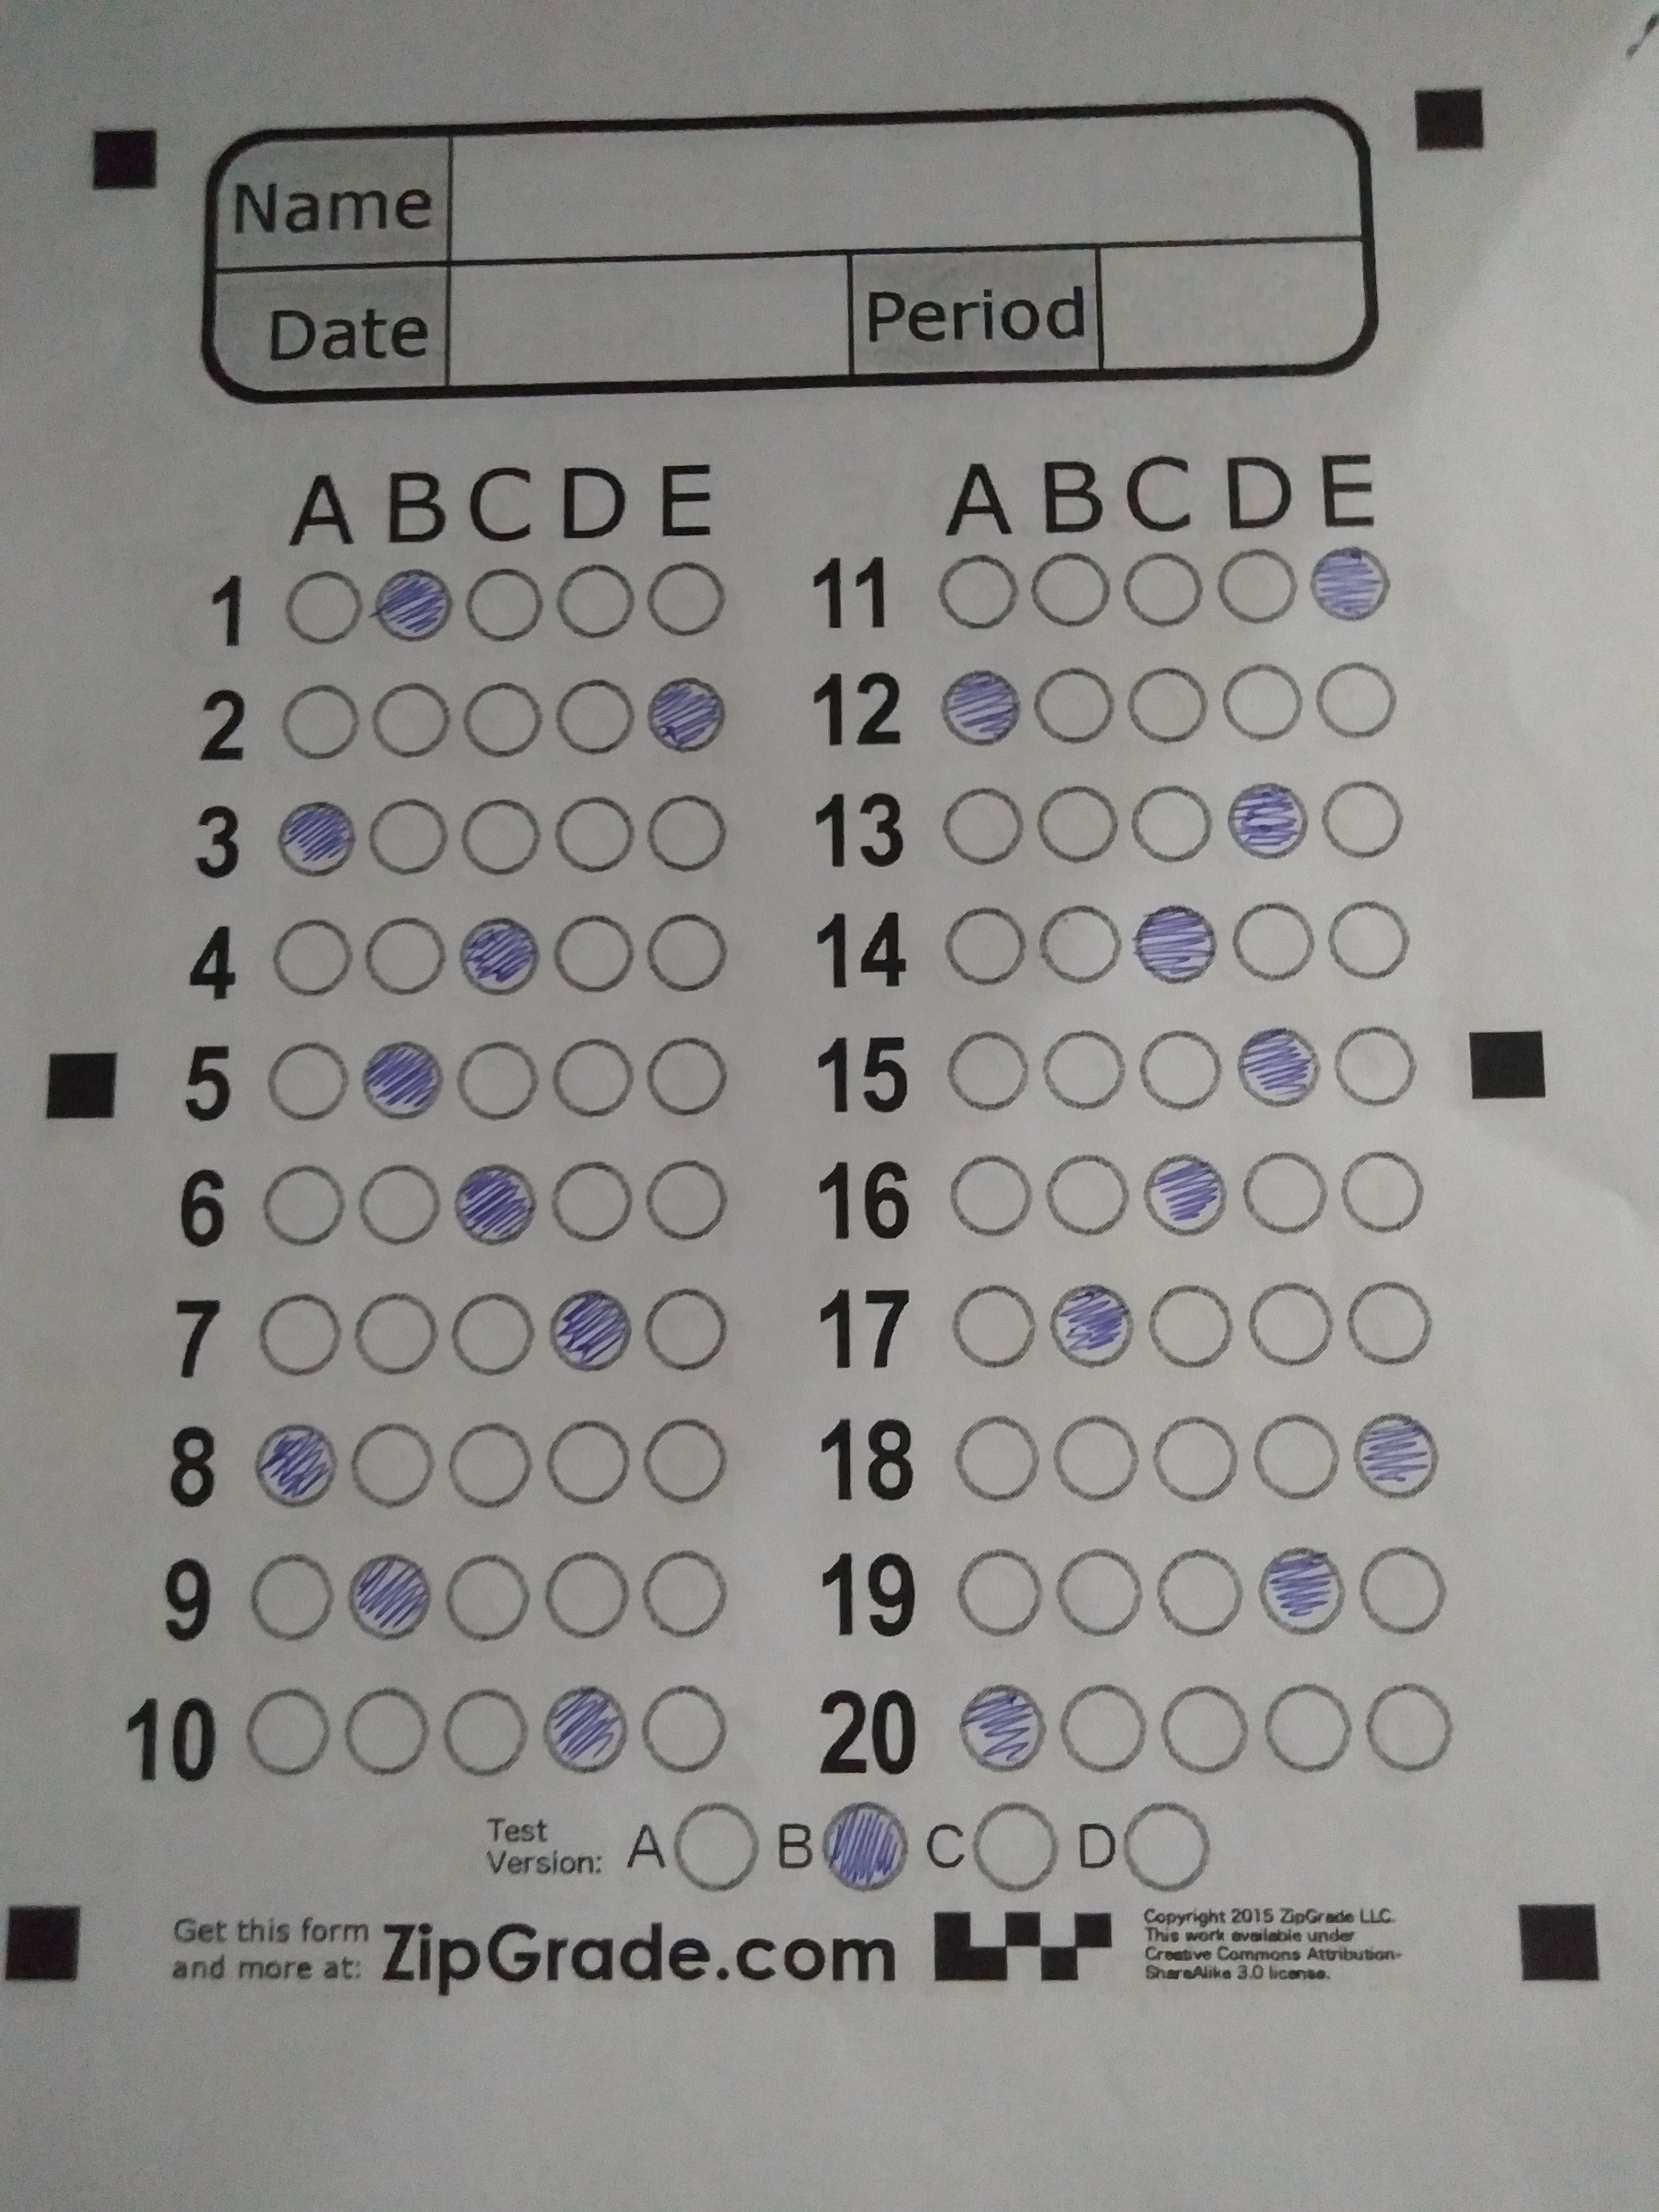not-c: (249, 1153, 349, 1252), (936, 780, 1035, 869), (939, 909, 1030, 993), (545, 911, 636, 995), (551, 792, 641, 876), (634, 913, 725, 996), (647, 787, 737, 871), (362, 679, 453, 763), (256, 1042, 347, 1125), (948, 1416, 1039, 1500), (1033, 1028, 1124, 1111), (1032, 780, 1122, 864), (1025, 554, 1115, 637), (1323, 892, 1413, 975), (443, 1555, 533, 1639), (641, 1423, 732, 1507), (1162, 1691, 1253, 1775), (343, 1689, 434, 1773), (1364, 1684, 1455, 1768), (1239, 1148, 1330, 1231), (1051, 1414, 1140, 1498), (939, 1029, 1028, 1113), (1028, 660, 1117, 744), (929, 550, 1018, 634), (547, 1158, 636, 1242), (453, 1035, 542, 1118), (549, 1033, 638, 1116), (643, 1162, 732, 1245), (648, 1031, 737, 1115), (551, 678, 640, 761), (455, 794, 544, 878), (455, 674, 544, 758), (643, 559, 732, 643), (551, 564, 640, 648), (355, 918, 444, 1001), (366, 791, 455, 874), (350, 1162, 439, 1245), (267, 916, 355, 1000), (277, 686, 366, 770), (955, 1554, 1044, 1637), (943, 1280, 1032, 1364), (1147, 1284, 1236, 1367), (939, 1153, 1028, 1237), (1040, 1155, 1129, 1238), (1133, 1028, 1222, 1111), (1230, 899, 1319, 982), (1032, 906, 1121, 989), (1121, 662, 1209, 745), (1121, 550, 1209, 634), (1218, 660, 1307, 744), (1248, 1287, 1337, 1371), (1347, 1280, 1436, 1364), (1330, 1024, 1419, 1108), (1319, 775, 1408, 859), (1314, 657, 1403, 740), (1209, 545, 1298, 629), (1159, 1552, 1248, 1635), (1152, 1420, 1241, 1503), (258, 1292, 347, 1376), (242, 1555, 331, 1639), (441, 1425, 530, 1508), (538, 1420, 627, 1503), (537, 1554, 626, 1637), (643, 1554, 732, 1637), (345, 1294, 434, 1378), (640, 1285, 728, 1369), (451, 1289, 540, 1372), (1359, 1548, 1448, 1632), (1251, 1416, 1340, 1500), (1054, 1683, 1143, 1766), (242, 1689, 331, 1773), (444, 1689, 533, 1773), (643, 1688, 732, 1771), (1263, 1688, 1352, 1771), (673, 1806, 762, 1890), (971, 1804, 1060, 1888), (1121, 1804, 1209, 1888), (457, 566, 547, 648), (279, 566, 368, 648), (1127, 780, 1216, 862), (1337, 1148, 1425, 1230), (1051, 1552, 1140, 1634), (342, 1425, 430, 1507)
taken-c: (1040, 1275, 1136, 1367), (816, 1799, 911, 1892), (338, 1552, 434, 1644), (1347, 1407, 1443, 1500), (1141, 1144, 1237, 1237), (1256, 1547, 1352, 1639), (1232, 1022, 1326, 1115), (951, 1679, 1046, 1771), (537, 1684, 633, 1775), (246, 1416, 342, 1507), (540, 1285, 634, 1376), (450, 1160, 542, 1247), (359, 1033, 448, 1122), (455, 911, 545, 996), (366, 564, 455, 648), (272, 794, 361, 878), (640, 671, 728, 754), (1134, 899, 1222, 982), (938, 667, 1025, 751), (1305, 538, 1392, 622), (1222, 780, 1310, 862)
